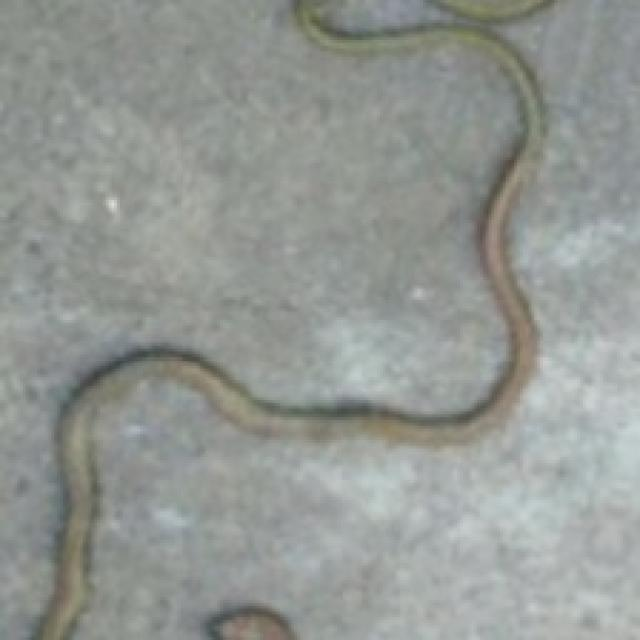paradise tree snake: (74, 0, 637, 637), (0, 0, 520, 637), (0, 0, 517, 637), (143, 540, 431, 637)
